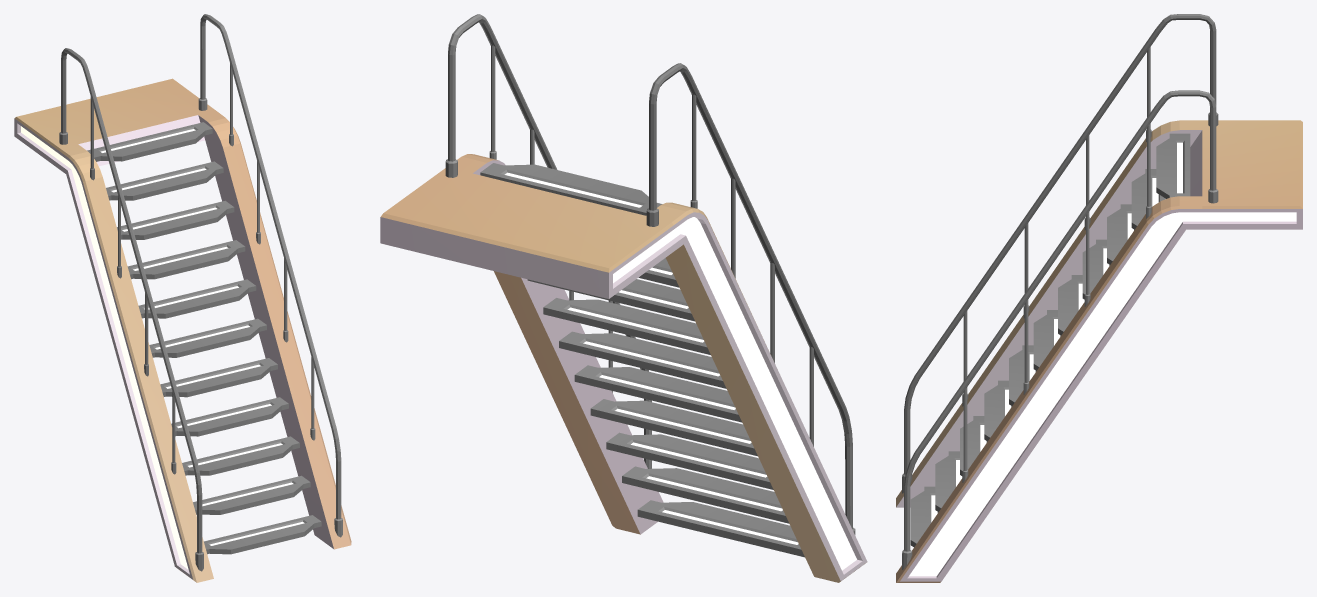
File: Stairs.fbx
The picture shows the model from 3 angles, left to right: view 1: azimuth 30°, elevation 25°; view 2: azimuth 150°, elevation 25°; view 3: azimuth 270°, elevation 25°; orthographic projection. The views are drawn at different scales.
Parts seen in each view (by area): view 1: Stairs; view 2: Stairs; view 3: Stairs.
Boxes of the visible parts, x1,y1,x2,y2 form: Stairs: [14, 14, 351, 582]; Stairs: [380, 14, 867, 582]; Stairs: [896, 14, 1302, 582].
Bounding box in the file's own units: 163 × 427 × 322.
